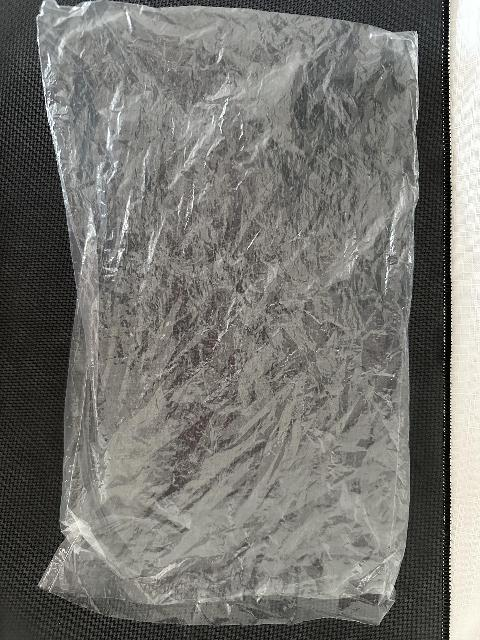Plastik: (40, 3, 416, 614)
